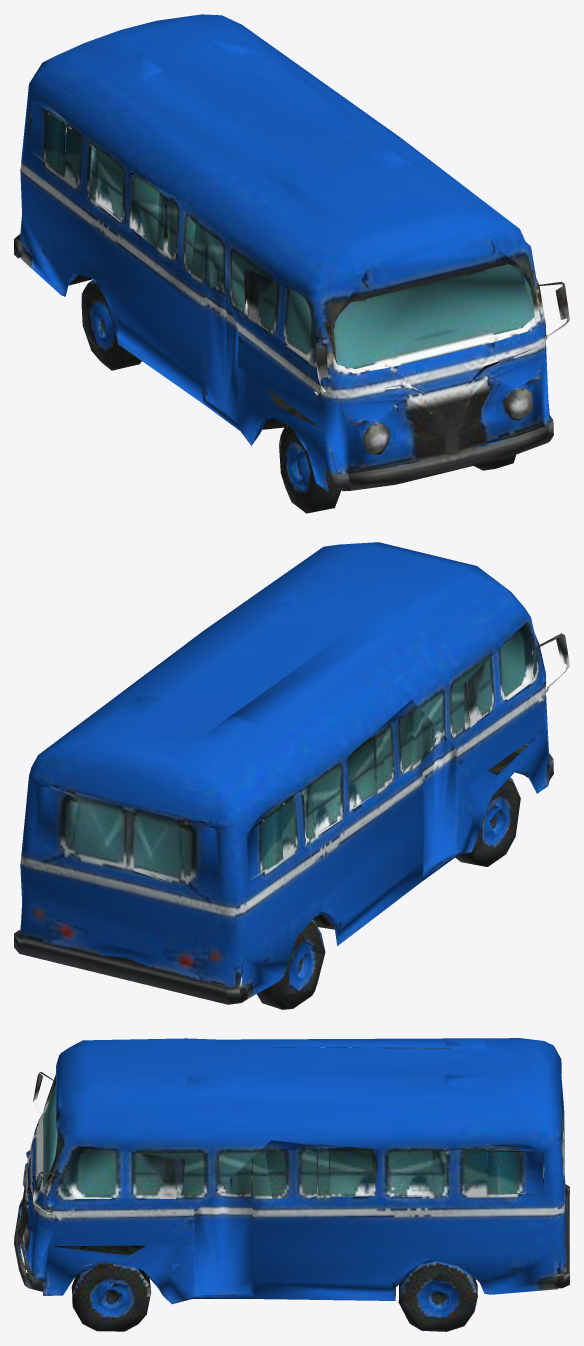
The model's file is danfo-blue-white.glb.
The picture shows the model from 3 angles, top to bottom: view 1: azimuth 30°, elevation 25°; view 2: azimuth 150°, elevation 25°; view 3: azimuth 270°, elevation 25°; orthographic projection. The views are drawn at different scales.
Parts seen in each view (by area): view 1: danfo; view 2: danfo; view 3: danfo.
Boxes of the visible parts, x1,y1,x2,y2 form: danfo: (14,14,569,513); danfo: (14,542,569,1009); danfo: (14,1038,569,1331).
Bounding box in the file's own units: 2.15 × 2.29 × 4.94.
1 material, 1 textured.
